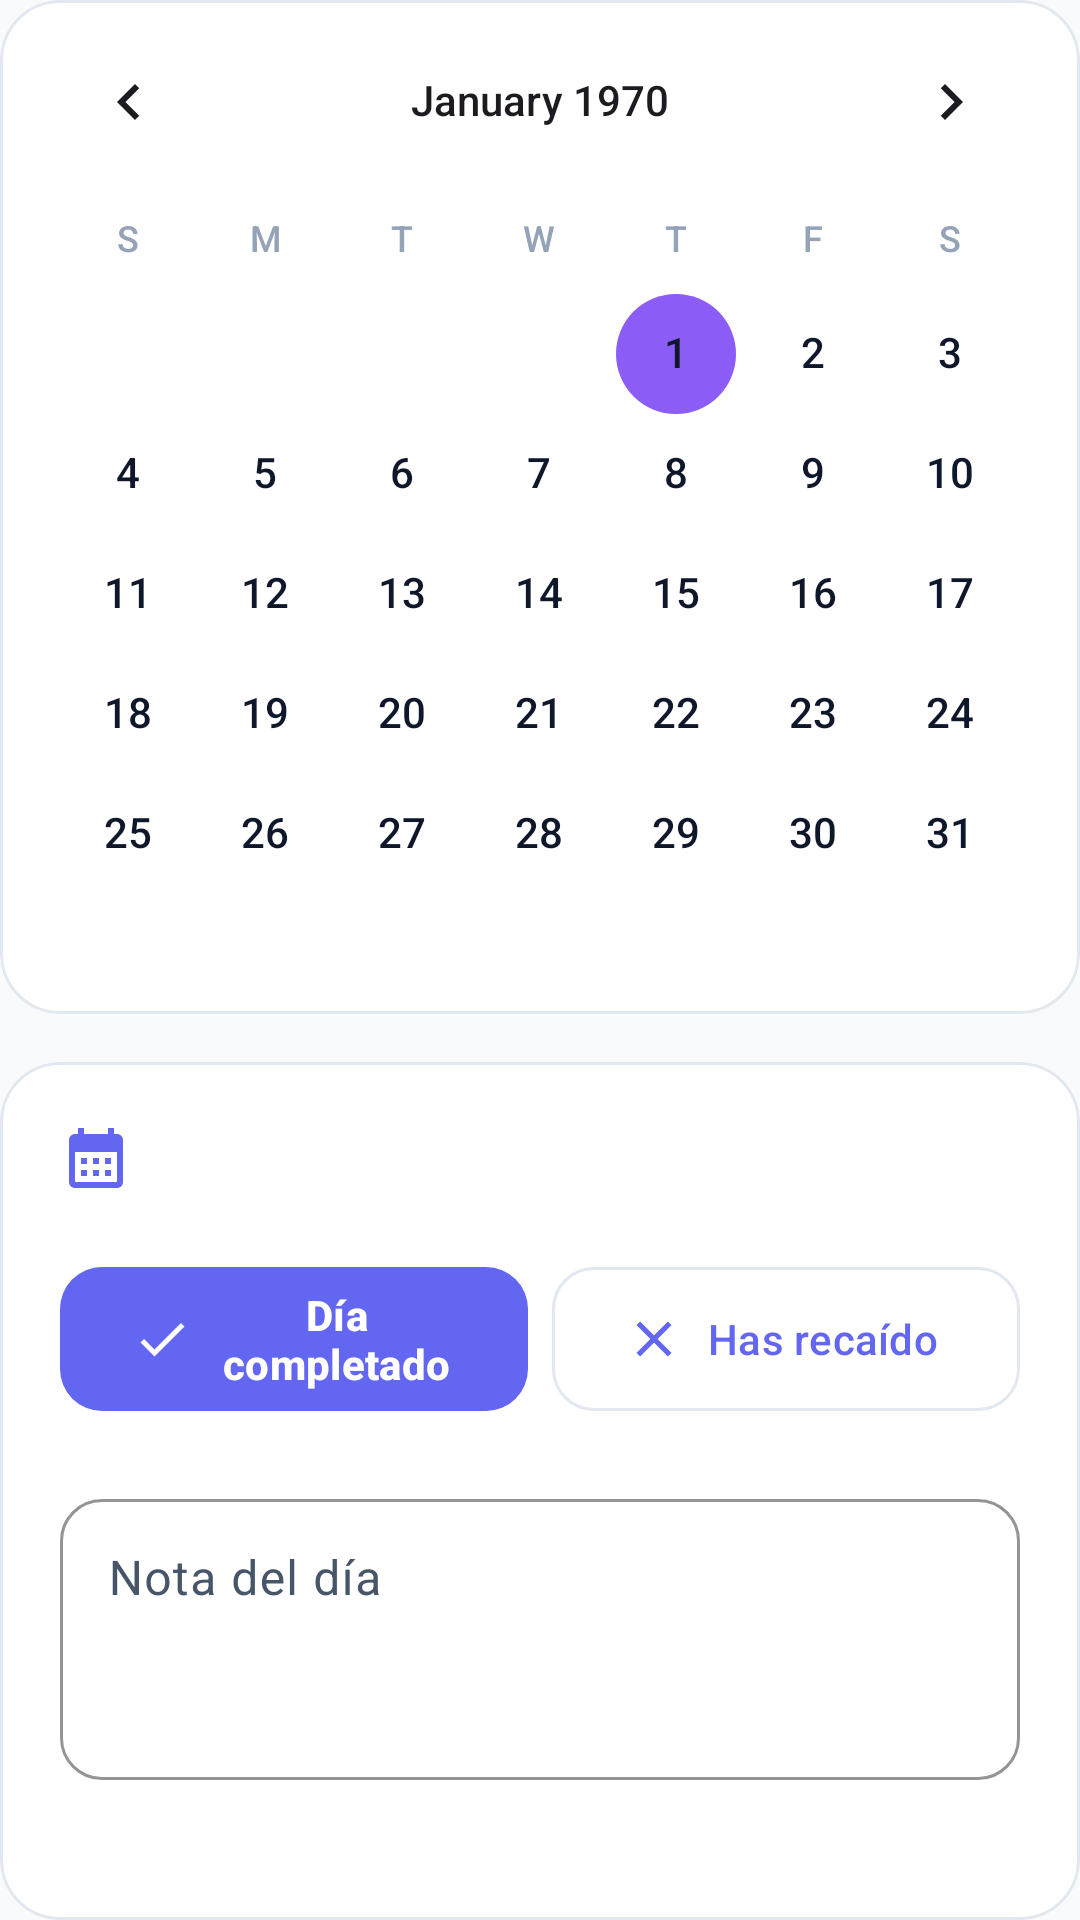

Point at icon controls on the screen. Image size 1080x1920, points as (x,y).
Fecha: (96,1158)
